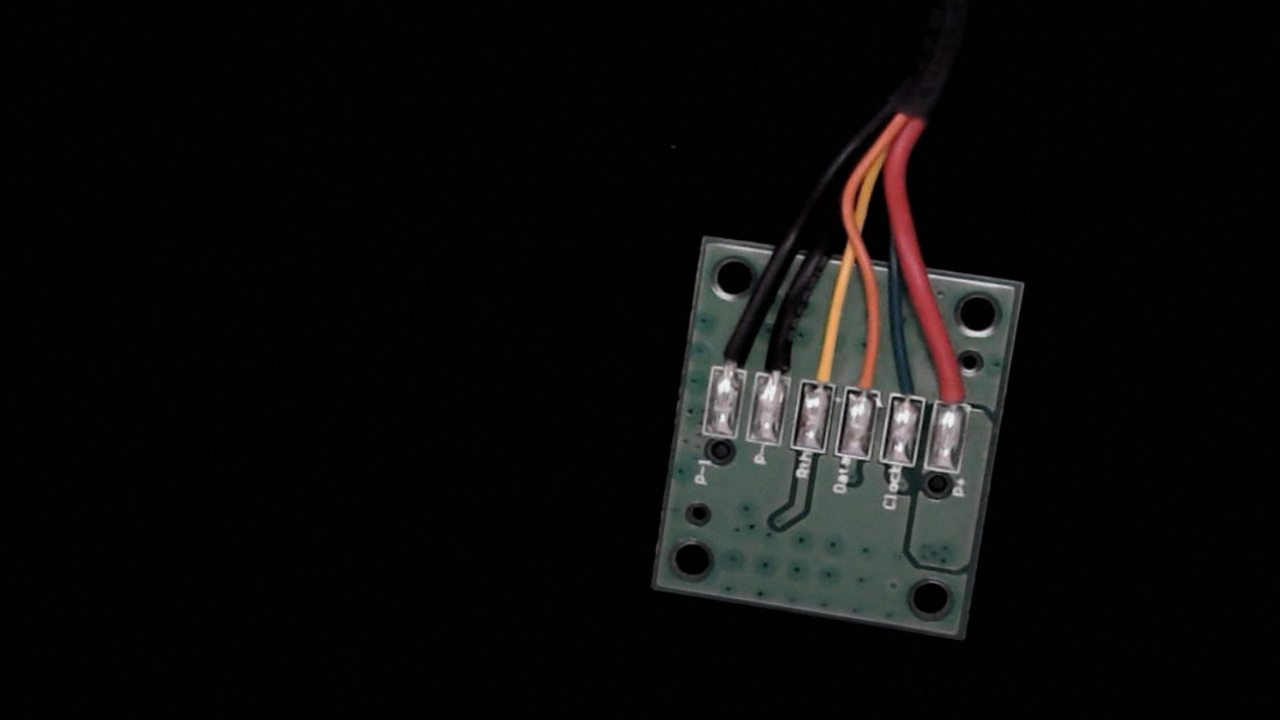Black: (754, 312, 804, 391)
Black1: (708, 311, 755, 386)
Green: (886, 347, 934, 418)
Orange: (843, 328, 892, 409)
Red: (930, 353, 980, 424)
Yellow: (796, 321, 851, 401)
